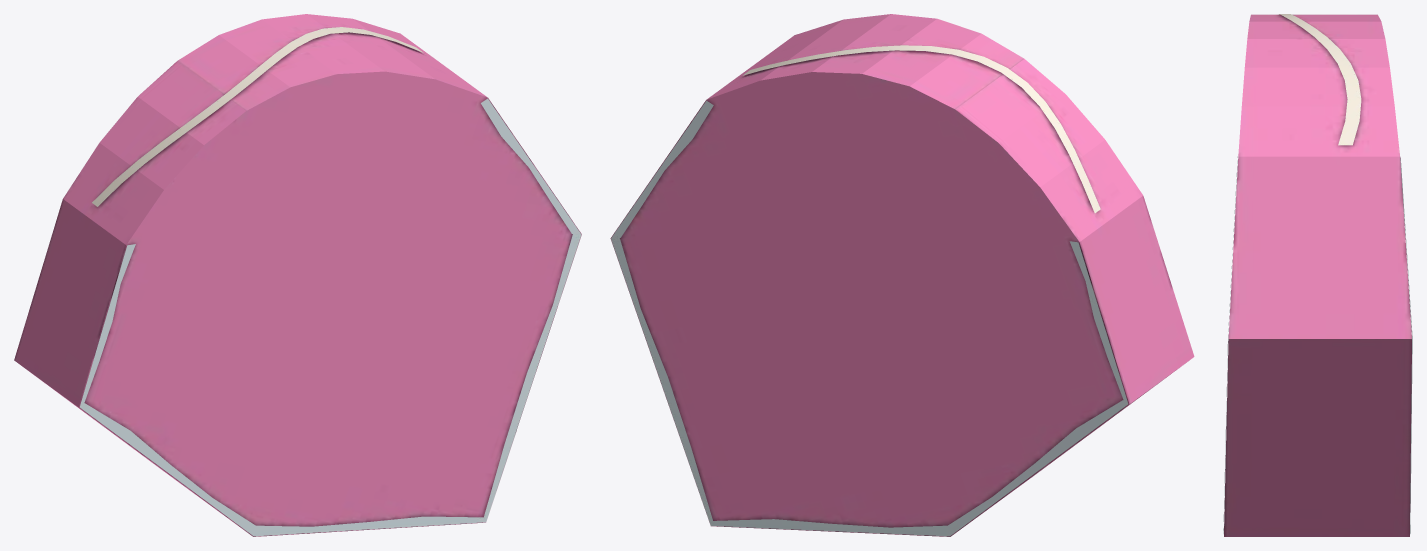
3 renders of one model, left to right at view 1: azimuth 30°, elevation 25°; view 2: azimuth 150°, elevation 25°; view 3: azimuth 270°, elevation 25°, orthographic. The views are drawn at different scales.
Visible parts, largest first — view 1: Candy_Bubblegum_FF8FC7, Sugar_Edge_Frost, Peppermint_Cream; view 2: Candy_Bubblegum_FF8FC7, Sugar_Edge_Frost, Peppermint_Cream; view 3: Candy_Bubblegum_FF8FC7, Peppermint_Cream, Sugar_Edge_Frost.
Boxes of the visible parts, x1,y1,x2,y2 form: Candy_Bubblegum_FF8FC7: [14, 14, 581, 536]; Sugar_Edge_Frost: [80, 98, 581, 536]; Peppermint_Cream: [92, 27, 423, 206]; Candy_Bubblegum_FF8FC7: [610, 14, 1194, 536]; Sugar_Edge_Frost: [611, 100, 1128, 536]; Peppermint_Cream: [743, 45, 1100, 213]; Candy_Bubblegum_FF8FC7: [1224, 14, 1411, 536]; Peppermint_Cream: [1279, 14, 1361, 145]; Sugar_Edge_Frost: [1223, 156, 1412, 533].
Size of the model in its own units: 1 by 0.92 by 0.3612.
Materials: 3 (3 with a texture image).
